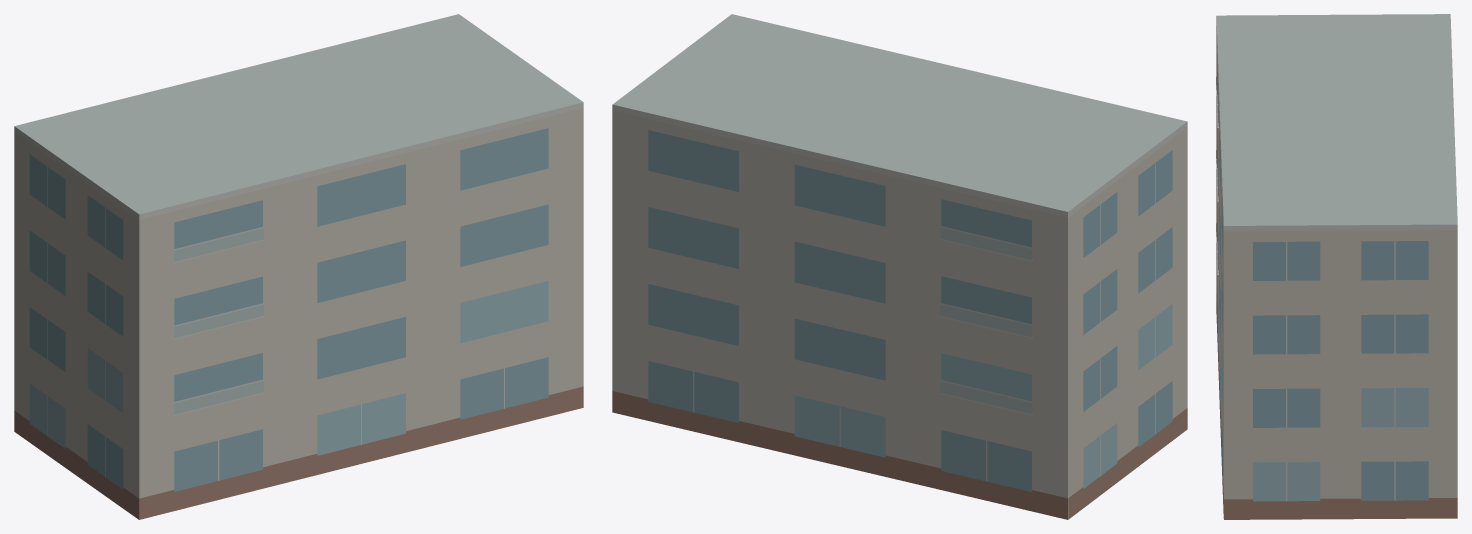
File: survey-upis-32810545.glb
The picture shows the model from 3 angles, left to right: view 1: azimuth 30°, elevation 25°; view 2: azimuth 150°, elevation 25°; view 3: azimuth 270°, elevation 25°; orthographic projection. The views are drawn at different scales.
Visible parts, largest first — view 1: survey-upis-32810545.tmp; view 2: survey-upis-32810545.tmp; view 3: survey-upis-32810545.tmp.
Part boxes in pixels (bbox=[...]): survey-upis-32810545.tmp: bbox=[14, 14, 583, 519]; survey-upis-32810545.tmp: bbox=[612, 14, 1187, 519]; survey-upis-32810545.tmp: bbox=[1216, 14, 1457, 519].
Size of the model in its own units: 20.12 by 13 by 9.7.
